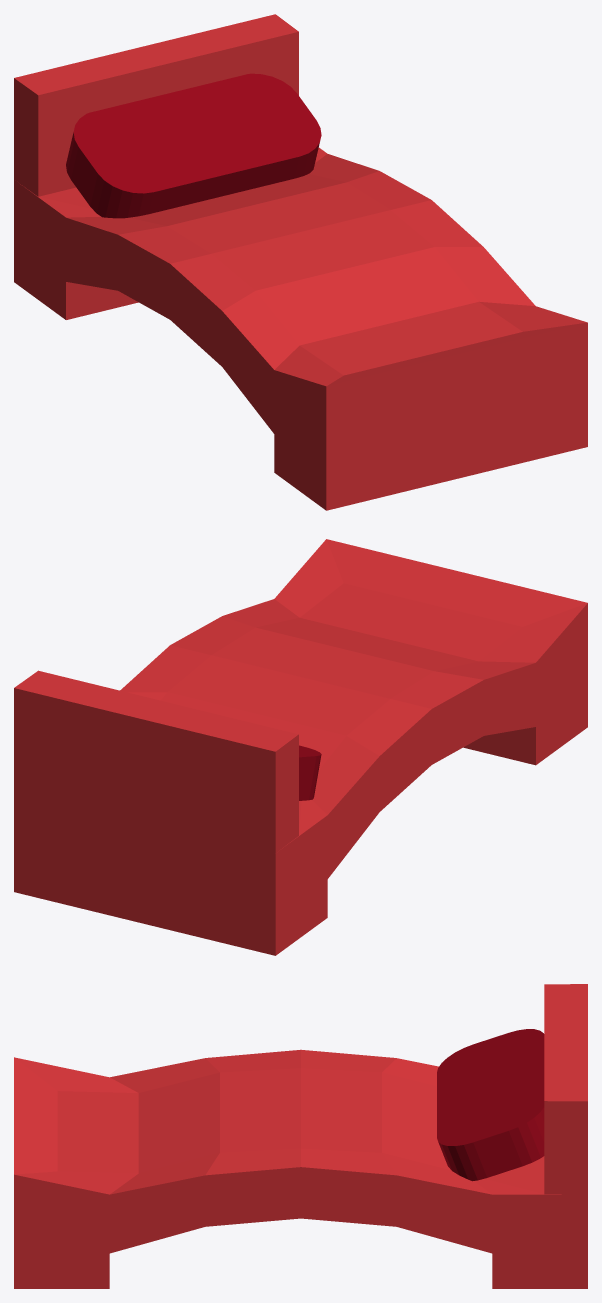
Rendered from Model_Divan.fbx.
3 renders of one model, top to bottom at view 1: azimuth 30°, elevation 25°; view 2: azimuth 150°, elevation 25°; view 3: azimuth 270°, elevation 25°, orthographic. The views are drawn at different scales.
Visible parts, largest first — view 1: sofa, cojin; view 2: sofa, cojin; view 3: sofa, cojin.
Part boxes in pixels (left/top/right/bottom): sofa: left=14, top=14, right=587, bottom=510; cojin: left=66, top=73, right=321, bottom=218; sofa: left=14, top=539, right=587, bottom=955; cojin: left=299, top=745, right=321, bottom=800; sofa: left=14, top=984, right=587, bottom=1288; cojin: left=437, top=1029, right=544, bottom=1181.
Bounding box in the file's own units: 50.24 × 37.46 × 104.
